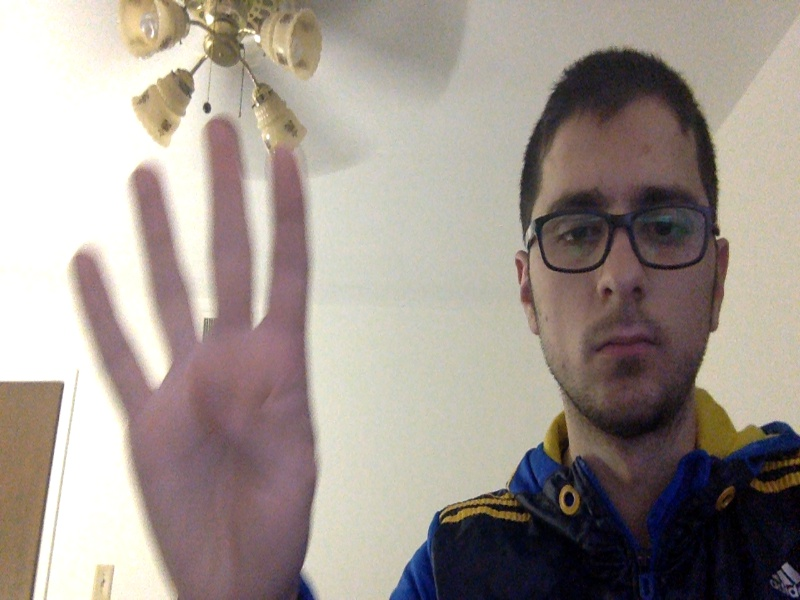4-hand: (69, 117, 317, 600)
